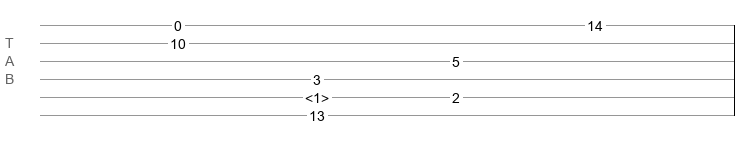0: (174, 18, 182, 28)
10: (170, 36, 186, 46)
13: (309, 108, 325, 118)
14: (587, 18, 603, 28)
2: (452, 90, 460, 100)
3: (313, 72, 321, 82)
5: (452, 54, 460, 64)
harmonic: (305, 90, 329, 100)
